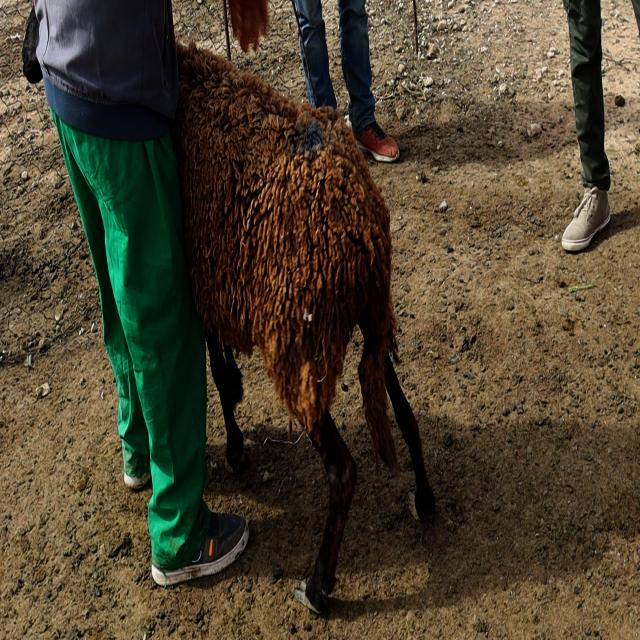Score_1: (171, 41, 435, 610)
